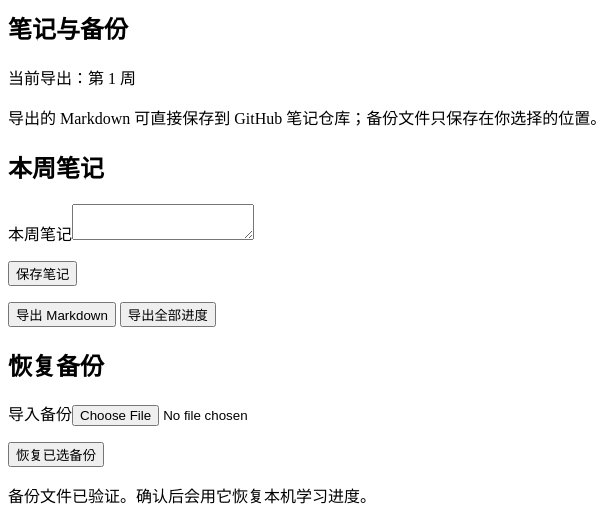
Test: NotesSettingsPage › keeps only the latest selected file when slower file reads resolve out of order
Earlier steps of the test are not shown.
Check: the message "备份文件已验证。确认后会用它恢复本机学习进度。" is shown, box [8,488,376,505]
Click the button "恢复已选备份": (56, 455) [8,442,104,467]
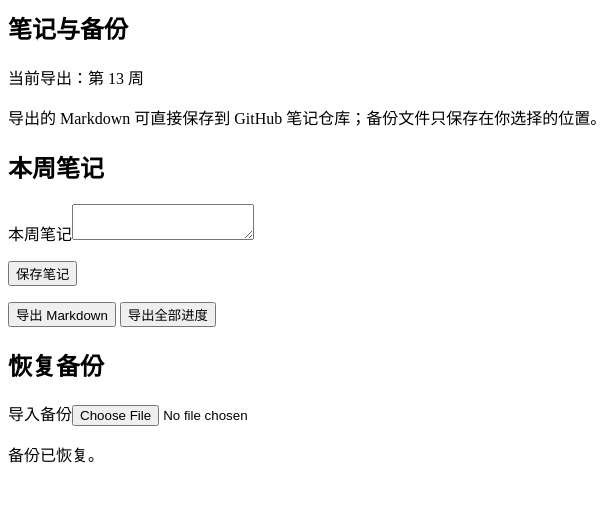
Check: the text "当前导出：第 13 周" is shown, box [8,70,144,87]
